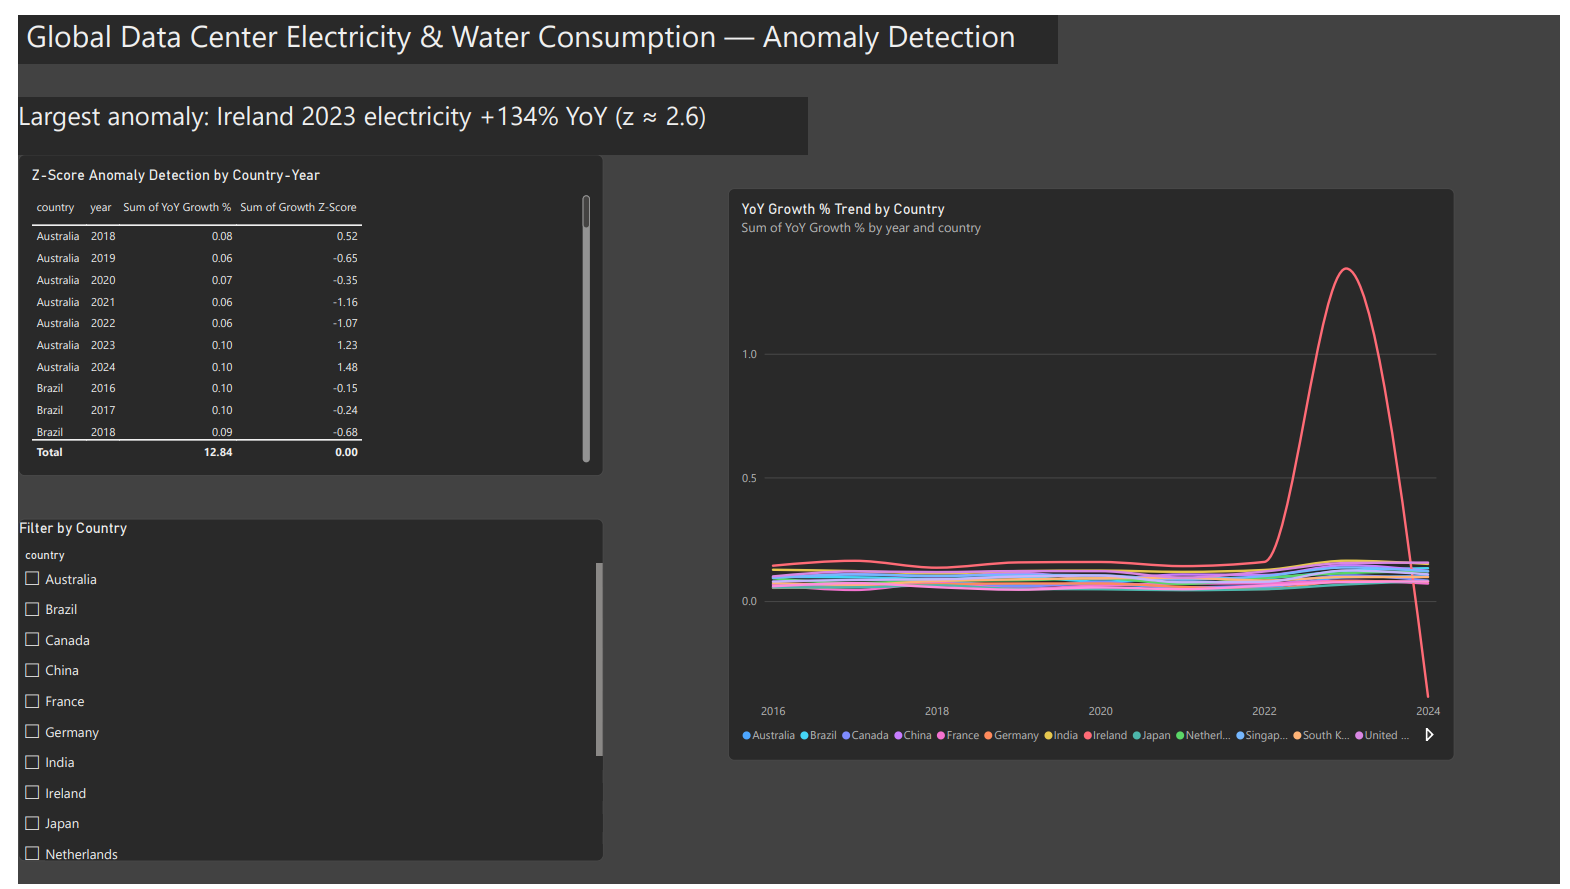

Layout of this report page (visuals, bound fields, positions):
{"tool":"powerbi","page":{"name":"Anomaly Detection","canvas":[1920,1080],"ordinal":2},"visuals":[{"type":"tableEx","title":"Z-Score Anomaly Detection by Country-Year","fields":{"Values":["datacenter_clean.country","datacenter_clean.year","Sum(datacenter_clean.YoY Growth %)","Sum(datacenter_clean.Growth Z-Score)"]},"box":[0,172.9,728.5,399.7],"z":0},{"type":"lineChart","title":"YoY Growth % Trend by Country","fields":{"Category":["datacenter_clean.year"],"Series":["datacenter_clean.country"],"Y":["Sum(datacenter_clean.YoY Growth %)"]},"box":[884.4,215.4,904.3,711.5],"z":1000},{"type":"slicer","title":"Filter by Country","fields":{"Values":["datacenter_clean.country"]},"box":[0,626.5,728.5,425.2],"z":2000},{"type":"textbox","box":[0,0,1295.4,59.5],"z":2001},{"type":"textbox","box":[0,102,983.6,70.9],"z":2002}]}

Visuals, with their boxes in screenshot pixels (x1, y1, x2, y2), scaled from the page's 1920x1080 canvas onto the 1570x889 screenshot:
"Z-Score Anomaly Detection by Country-Year" tableEx: <box>0,142,596,471</box>
"YoY Growth % Trend by Country" lineChart: <box>723,177,1463,763</box>
"Filter by Country" slicer: <box>0,516,596,866</box>
textbox: <box>0,0,1059,49</box>
textbox: <box>0,84,804,142</box>
